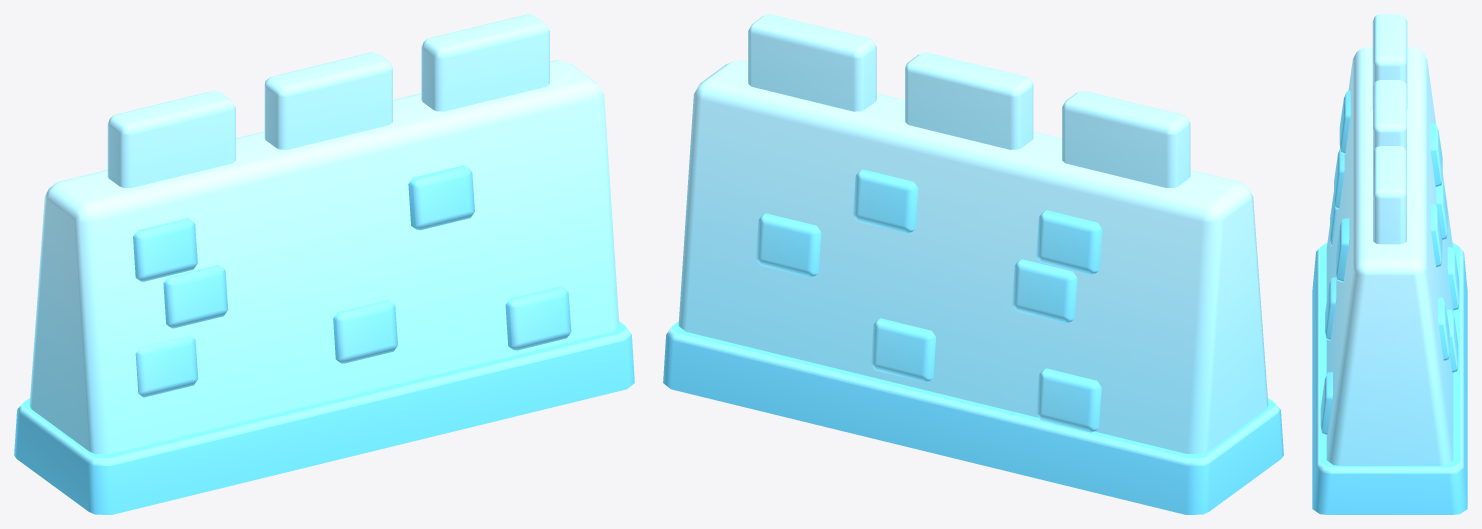
File: wall_001.glb
3 renders of one model, left to right at view 1: azimuth 30°, elevation 25°; view 2: azimuth 150°, elevation 25°; view 3: azimuth 270°, elevation 25°, orthographic. The views are drawn at different scales.
Parts seen in each view (by area): view 1: wall_001; view 2: wall_001; view 3: wall_001.
Boxes of the visible parts, x1,y1,x2,y2 form: wall_001: [14, 14, 634, 514]; wall_001: [663, 14, 1283, 514]; wall_001: [1312, 14, 1467, 514].
Size of the model in its own units: 9.06 by 5.56 by 2.6.
1 material, 1 textured.
